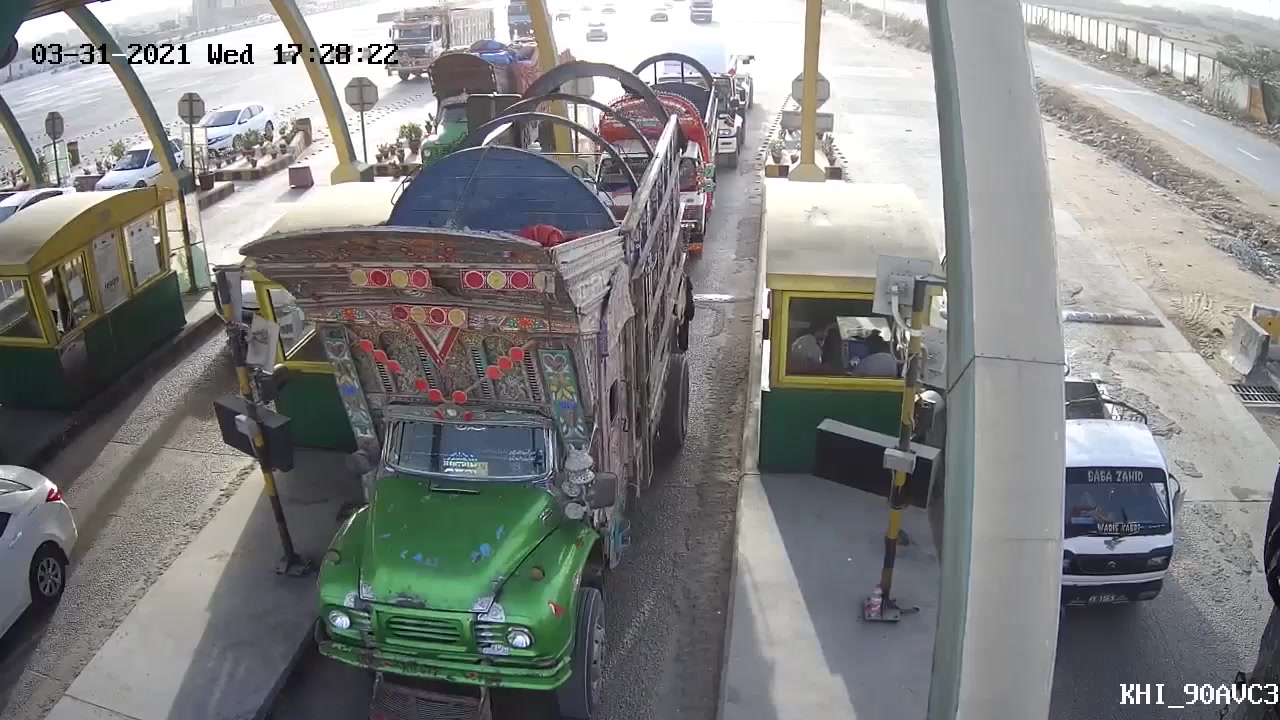F5: (293, 74, 691, 706)
